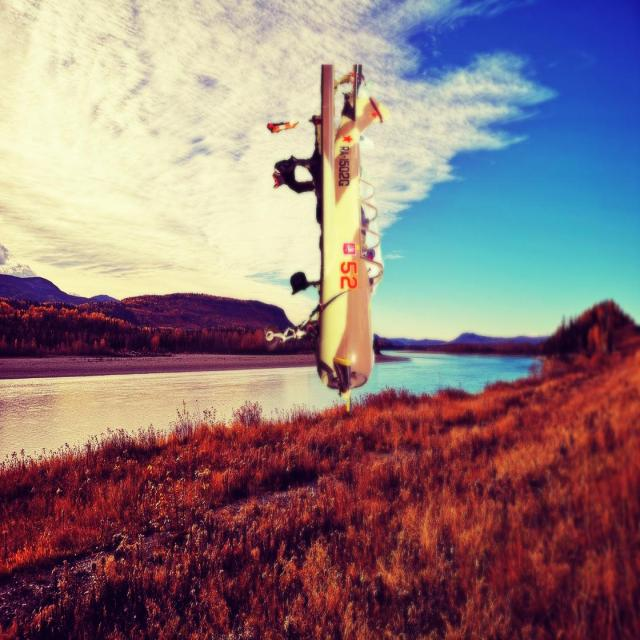airplane: (263, 61, 389, 406)
